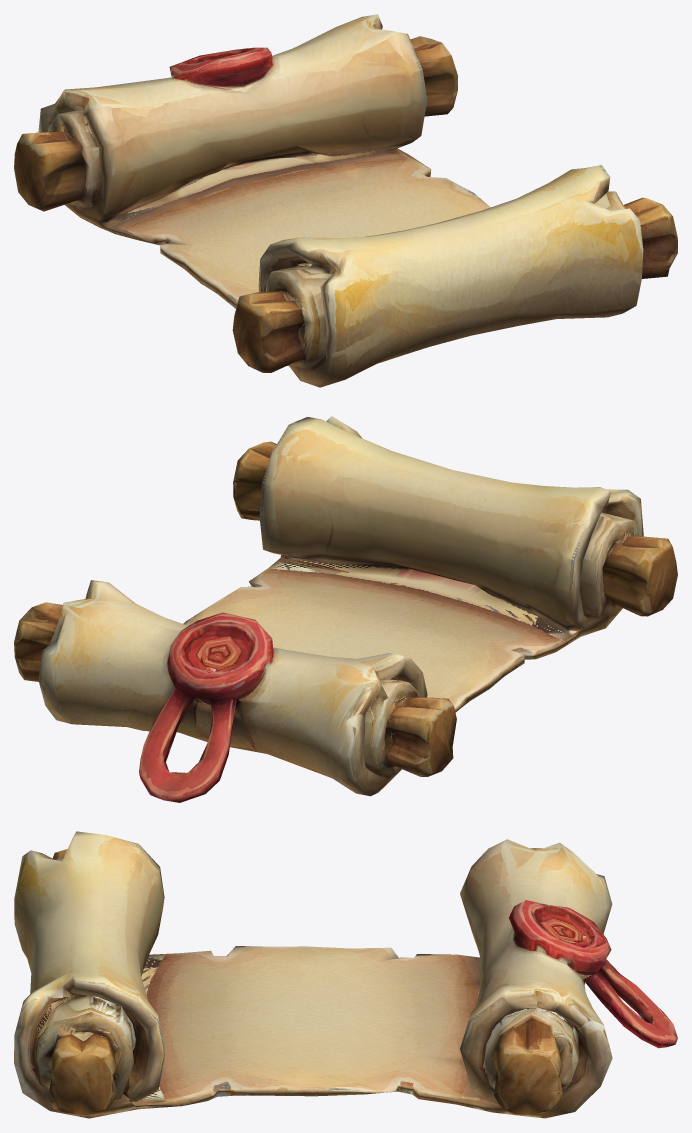
File: Prop_ScrollBlank.fbx
3 renders of one model, top to bottom at view 1: azimuth 30°, elevation 25°; view 2: azimuth 150°, elevation 25°; view 3: azimuth 270°, elevation 25°, orthographic.
Visible parts, largest first — view 1: texture_mapping; view 2: texture_mapping; view 3: texture_mapping.
Part boxes in pixels (x1,y1,x2,y2): texture_mapping: (14,14,677,387); texture_mapping: (14,416,677,802); texture_mapping: (14,831,677,1118).
Size of the model in its own units: 0.7429 by 1 by 0.2297.
1 material, 1 textured.
